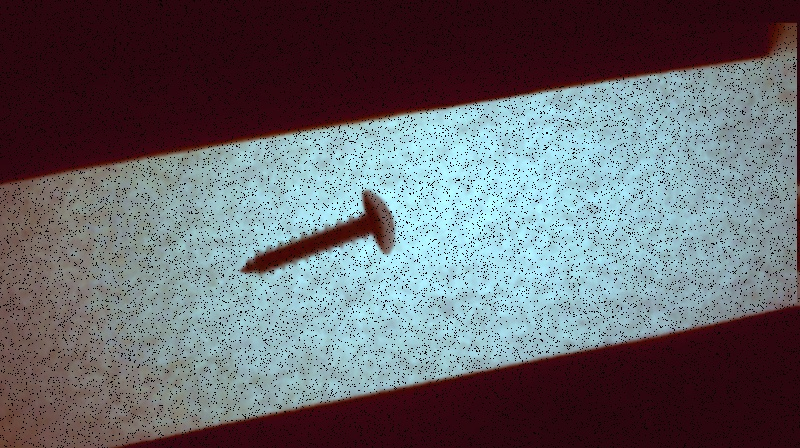S003: (234, 186, 399, 281)
